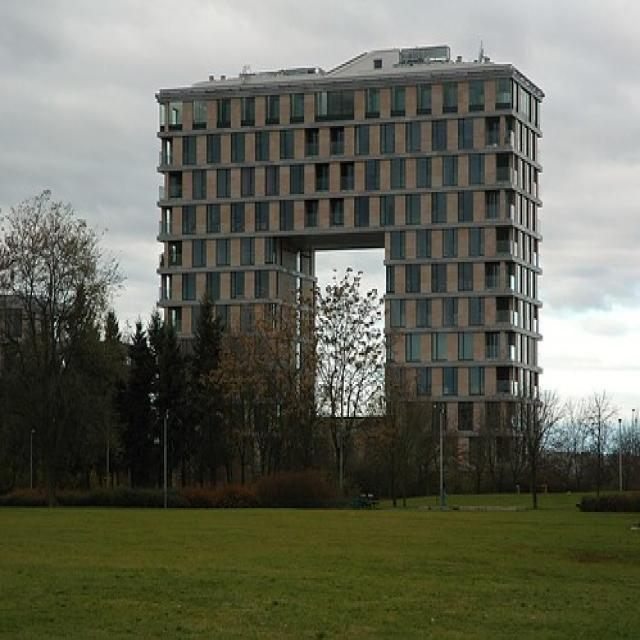Normal_building: (154, 47, 544, 490)
